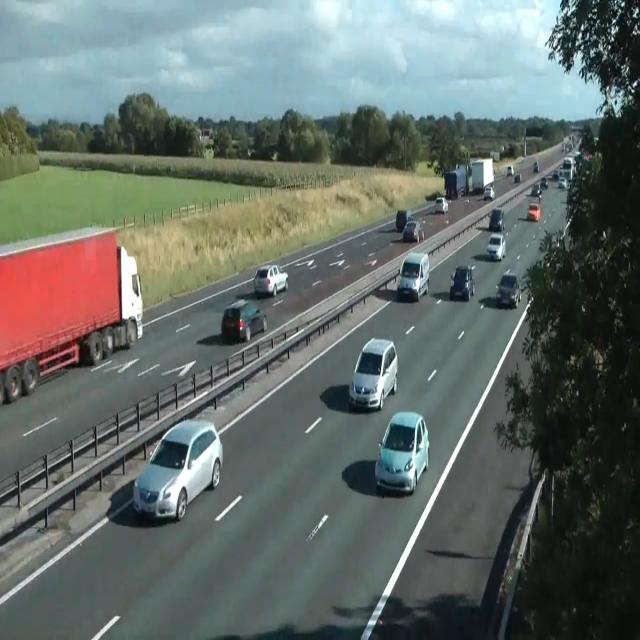bus: (221, 299, 267, 343), (253, 264, 288, 298), (495, 270, 521, 308), (449, 264, 475, 301), (486, 233, 506, 260), (402, 220, 424, 242), (488, 208, 504, 232), (434, 196, 448, 214), (526, 203, 540, 221), (567, 185, 579, 203), (530, 183, 542, 197), (484, 185, 494, 199), (558, 177, 567, 189), (540, 177, 548, 188), (506, 165, 514, 176), (248, 146, 255, 156), (514, 172, 521, 182), (533, 161, 539, 172), (459, 186, 465, 196)
jeep: (132, 418, 223, 522), (374, 410, 430, 495), (348, 336, 398, 411), (397, 251, 429, 301), (396, 209, 412, 231)
minibus: (0, 225, 143, 404), (444, 157, 494, 199), (468, 157, 494, 194), (443, 164, 467, 199)
